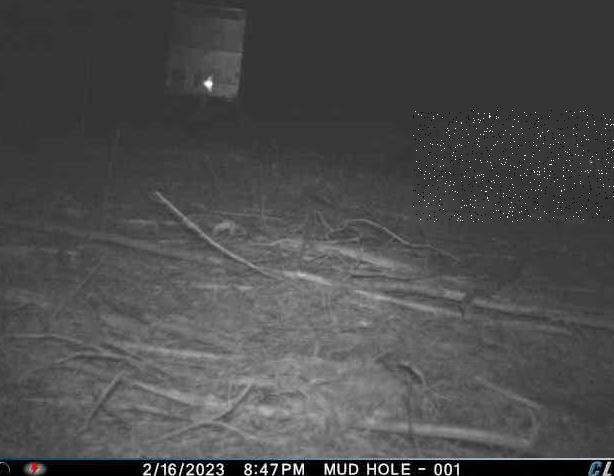Hog: (413, 110, 614, 222)
